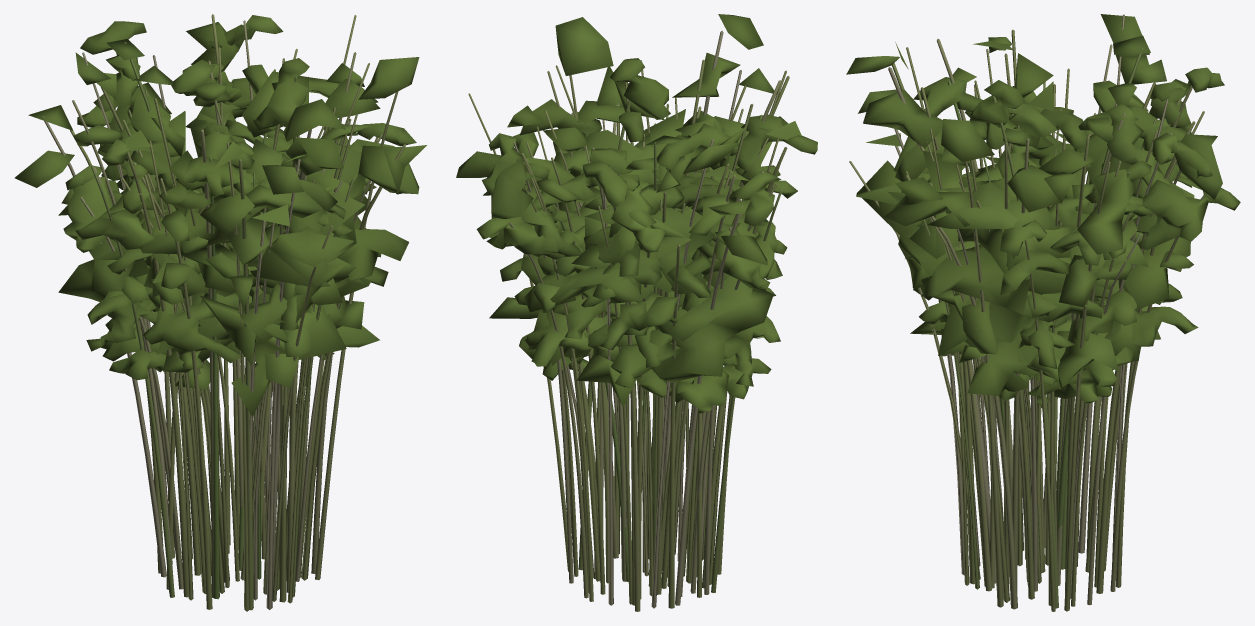
The model's file is bamboo.glb.
3 views of the same model, side by side, from view 1: azimuth 30°, elevation 25°; view 2: azimuth 150°, elevation 25°; view 3: azimuth 270°, elevation 25° (orthographic). The views are drawn at different scales.
Parts seen in each view (by area): view 1: bamboo1, bamboo0_far, bamboo1_far, bamboo0, bamboo0_dist, bamboo1_dist; view 2: bamboo0, bamboo1, bamboo0_far, bamboo1_far, bamboo0_dist, bamboo1_dist; view 3: bamboo0_far, bamboo1_far, bamboo0, bamboo1, bamboo0_dist, bamboo1_dist.
Boxes of the visible parts, box(x1,y1,x2,y2) form: bamboo1: box(58, 47, 416, 609); bamboo0_far: box(101, 15, 419, 610); bamboo1_far: box(14, 15, 419, 589); bamboo0: box(65, 14, 357, 597); bamboo0_dist: box(108, 14, 426, 611); bamboo1_dist: box(75, 52, 357, 606); bamboo0: box(476, 123, 782, 611); bamboo1: box(500, 58, 817, 608); bamboo0_far: box(491, 14, 789, 604); bamboo1_far: box(456, 65, 774, 605); bamboo0_dist: box(523, 67, 805, 605); bamboo1_dist: box(489, 60, 777, 608); bamboo0_far: box(846, 35, 1222, 607); bamboo1_far: box(858, 54, 1166, 611); bamboo0: box(970, 44, 1240, 606); bamboo1: box(901, 37, 1191, 611); bamboo0_dist: box(849, 29, 1192, 602); bamboo1_dist: box(866, 14, 1168, 598).
Bounding box in the file's own units: 0.6391 × 0.9494 × 0.6474.
